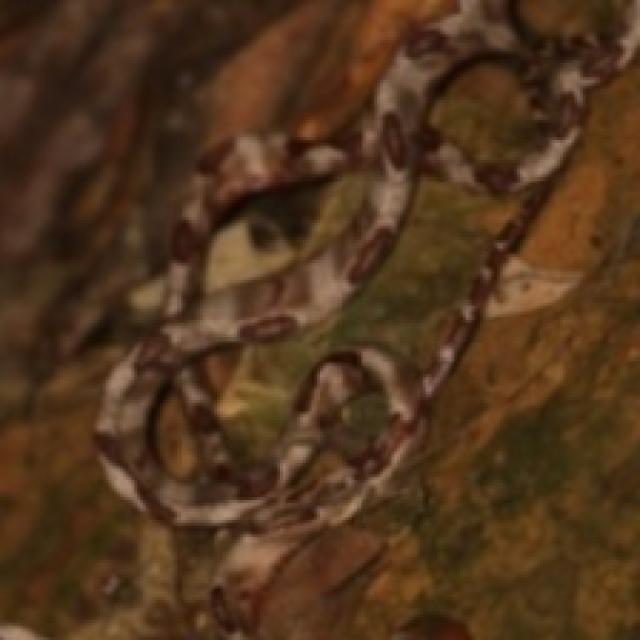dog-toothed cat snake: (94, 0, 637, 543)
